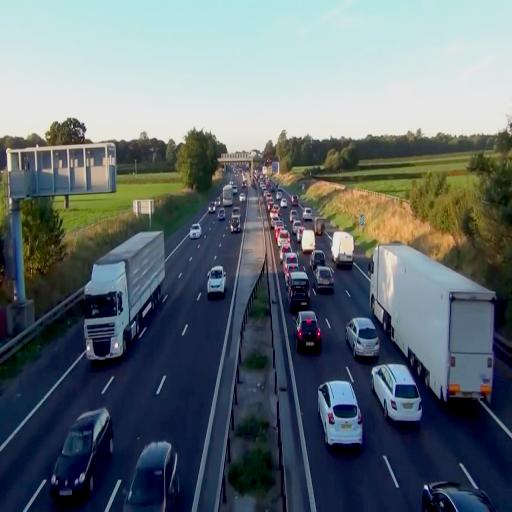vehicle: (370, 242, 496, 407), (83, 228, 167, 363), (50, 408, 114, 504), (123, 440, 179, 512), (422, 467, 494, 511), (371, 362, 422, 424), (317, 379, 363, 447), (345, 316, 380, 360), (295, 310, 321, 351), (288, 269, 311, 313), (314, 255, 335, 294), (332, 230, 354, 267), (207, 265, 226, 298), (315, 266, 335, 294), (283, 251, 299, 282), (190, 222, 202, 238)
